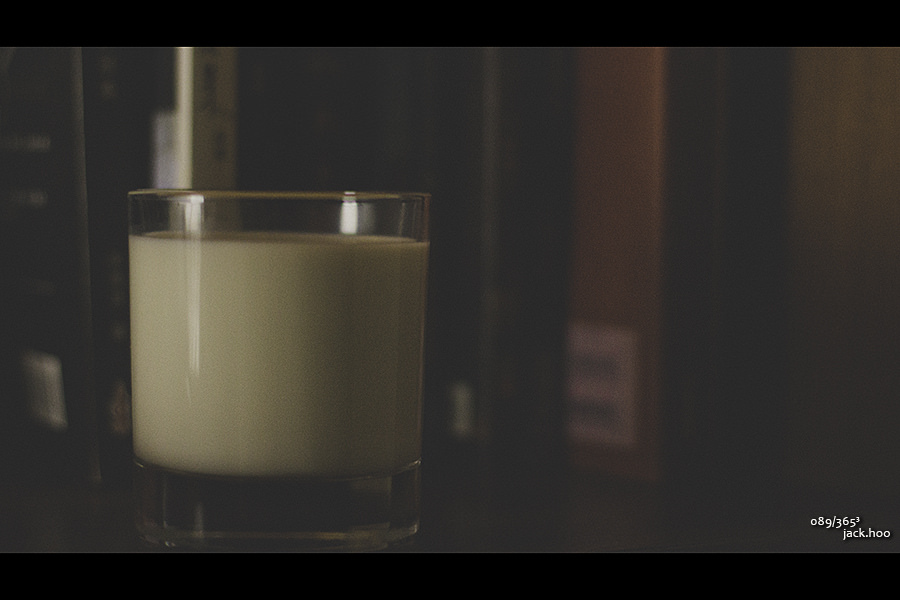glass of milk: (103, 166, 446, 552)
